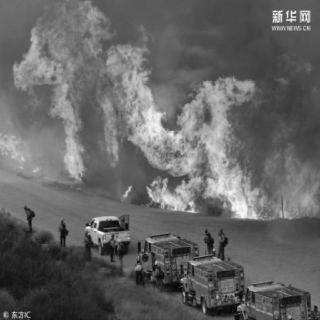Fire: (166, 79, 314, 217)
